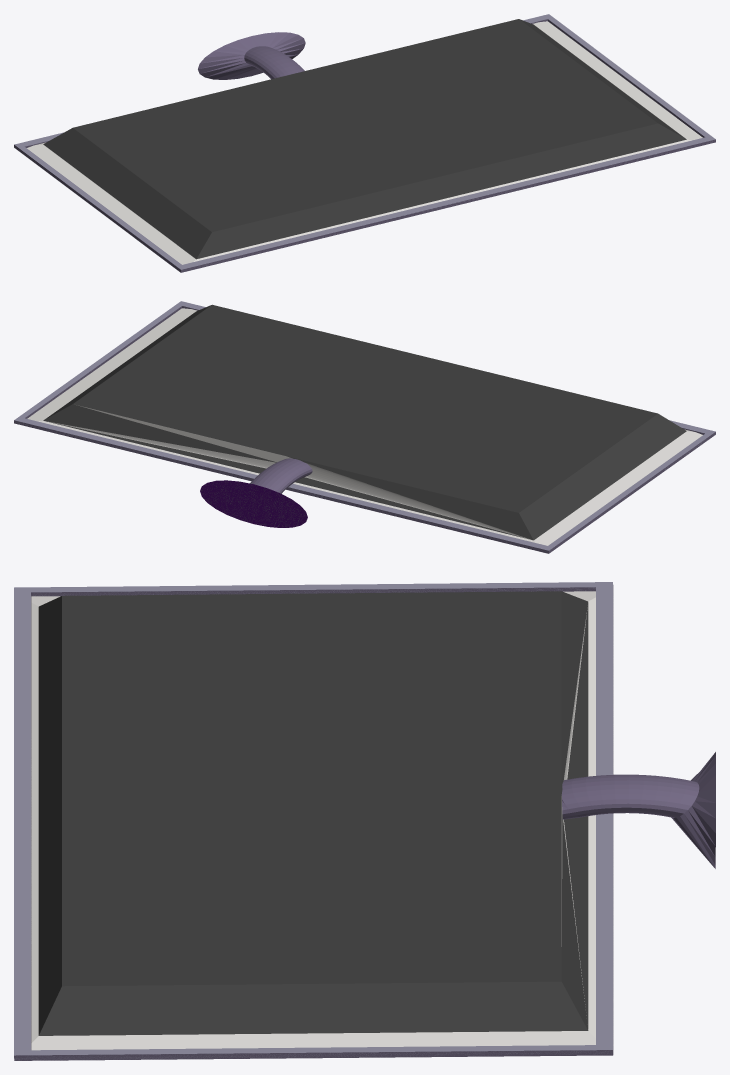
The picture shows the model from 3 angles, top to bottom: view 1: azimuth 30°, elevation 25°; view 2: azimuth 150°, elevation 25°; view 3: azimuth 270°, elevation 25°; orthographic projection. The views are drawn at different scales.
Parts seen in each view (by area): view 1: monitor; view 2: monitor; view 3: monitor.
Part boxes in pixels (x1=…): monitor: x1=14, y1=14, x2=715, y2=272; monitor: x1=14, y1=301, x2=715, y2=553; monitor: x1=14, y1=582, x2=715, y2=1060.
Size of the model in its own units: 19.39 by 1.39 by 12.29.
